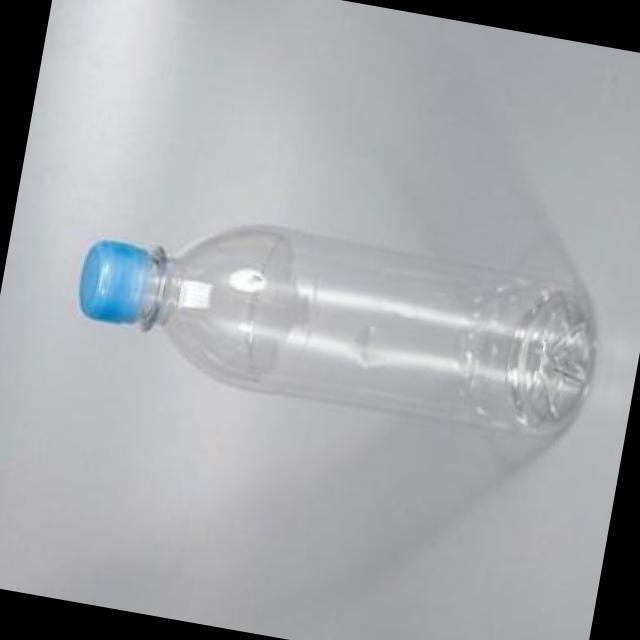good: (40, 175, 627, 468)
